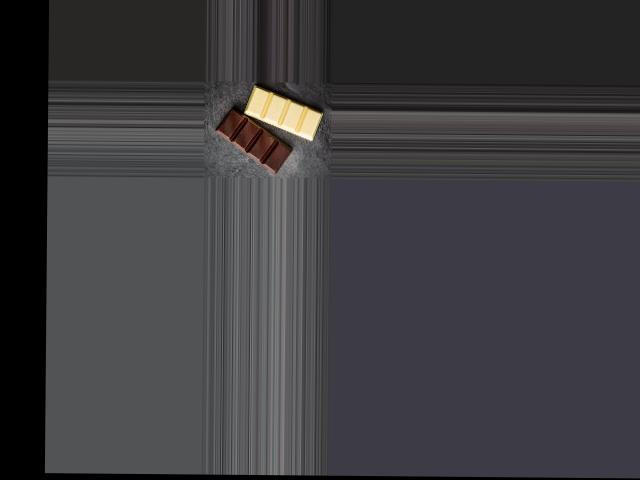chocolate: (215, 86, 327, 172)
